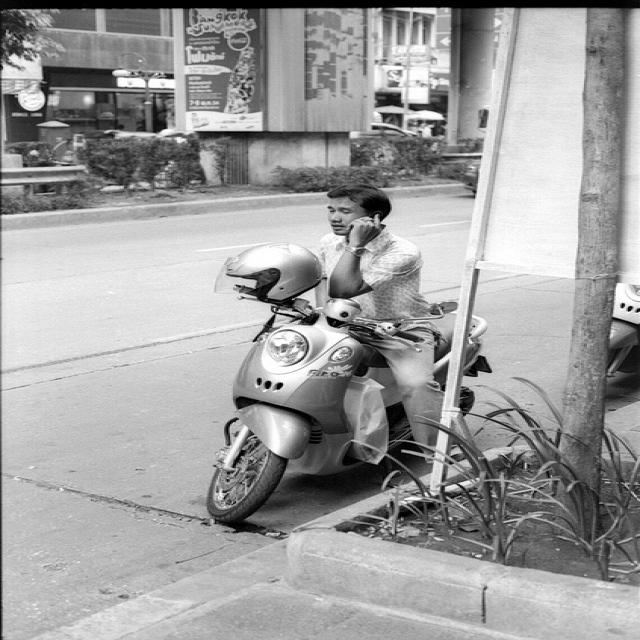motor: (207, 286, 493, 510), (603, 280, 640, 379)
